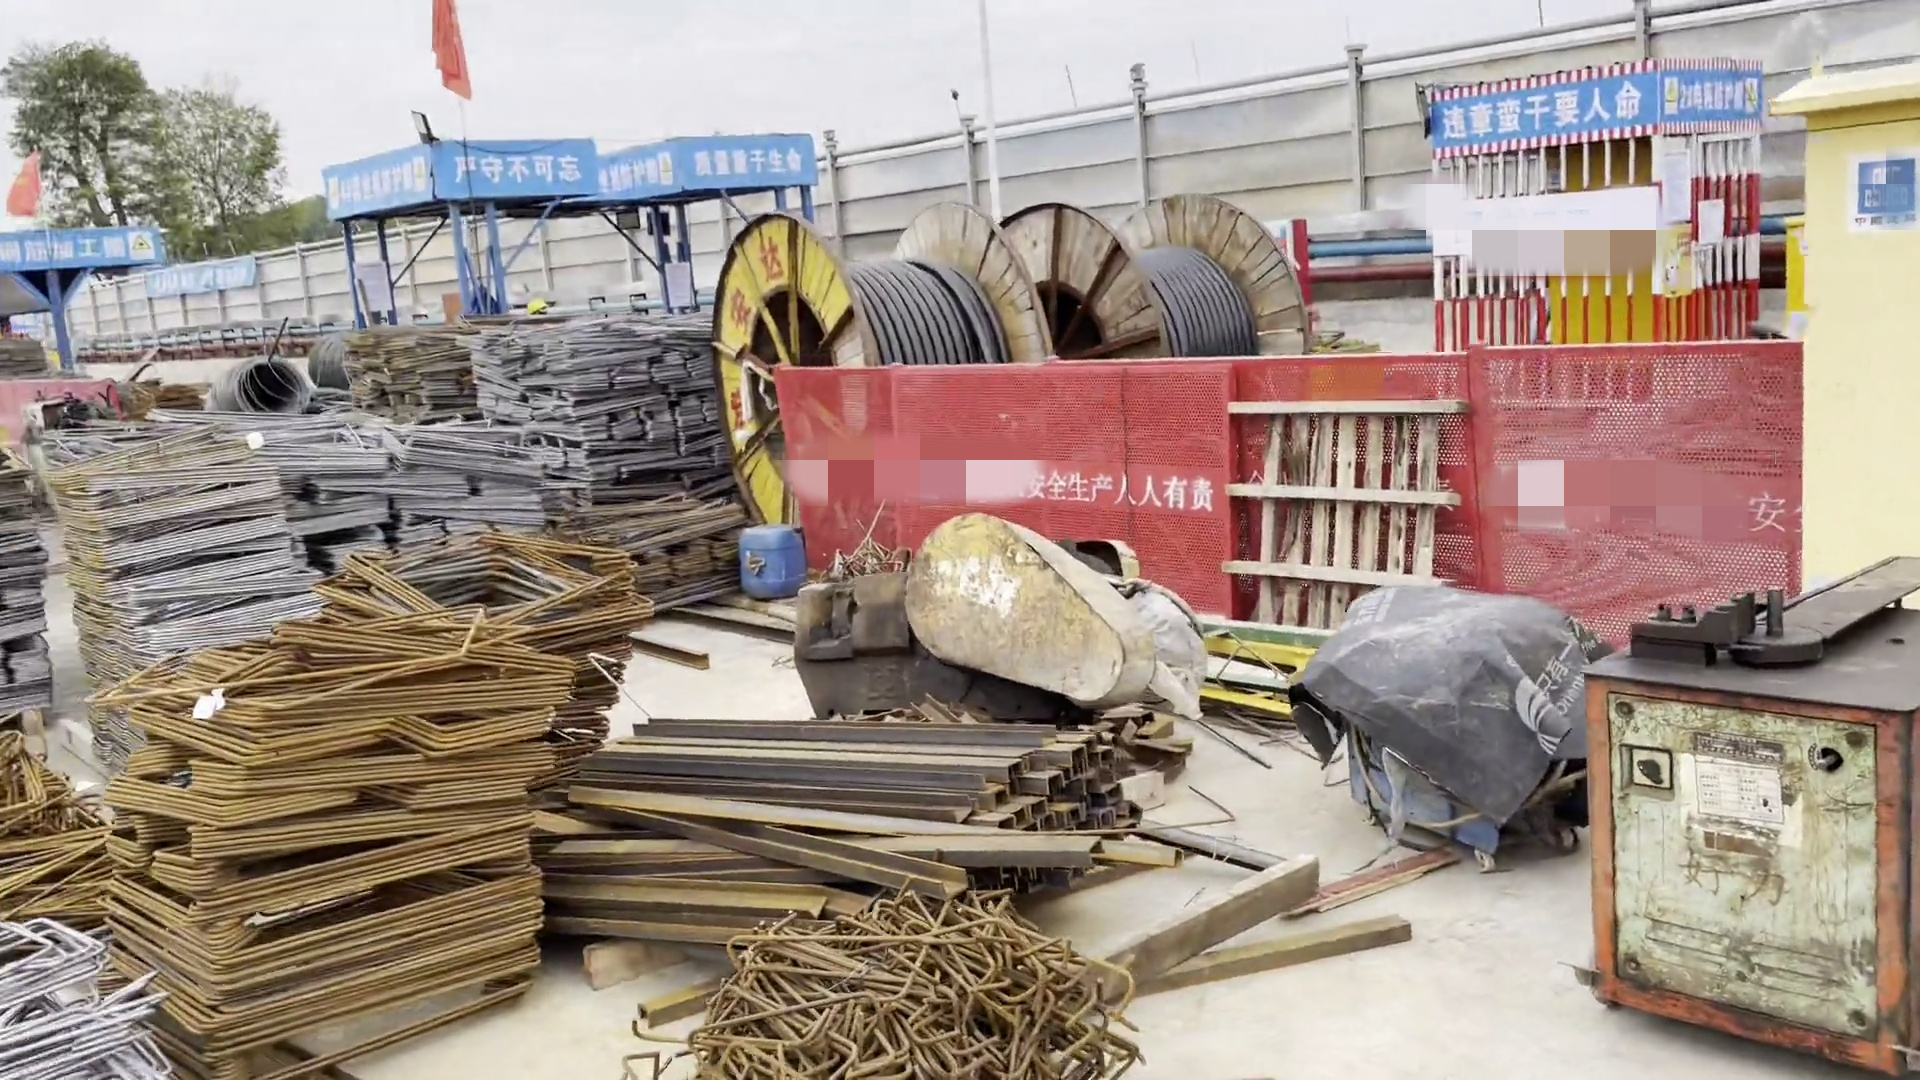cutter: (1522, 504, 1920, 1080)
ebox: (1771, 57, 1920, 588), (1513, 132, 1722, 361)
fence: (769, 335, 1832, 655)
slogan: (298, 131, 849, 251), (1408, 50, 1782, 149), (1, 215, 173, 277), (113, 257, 284, 295)
